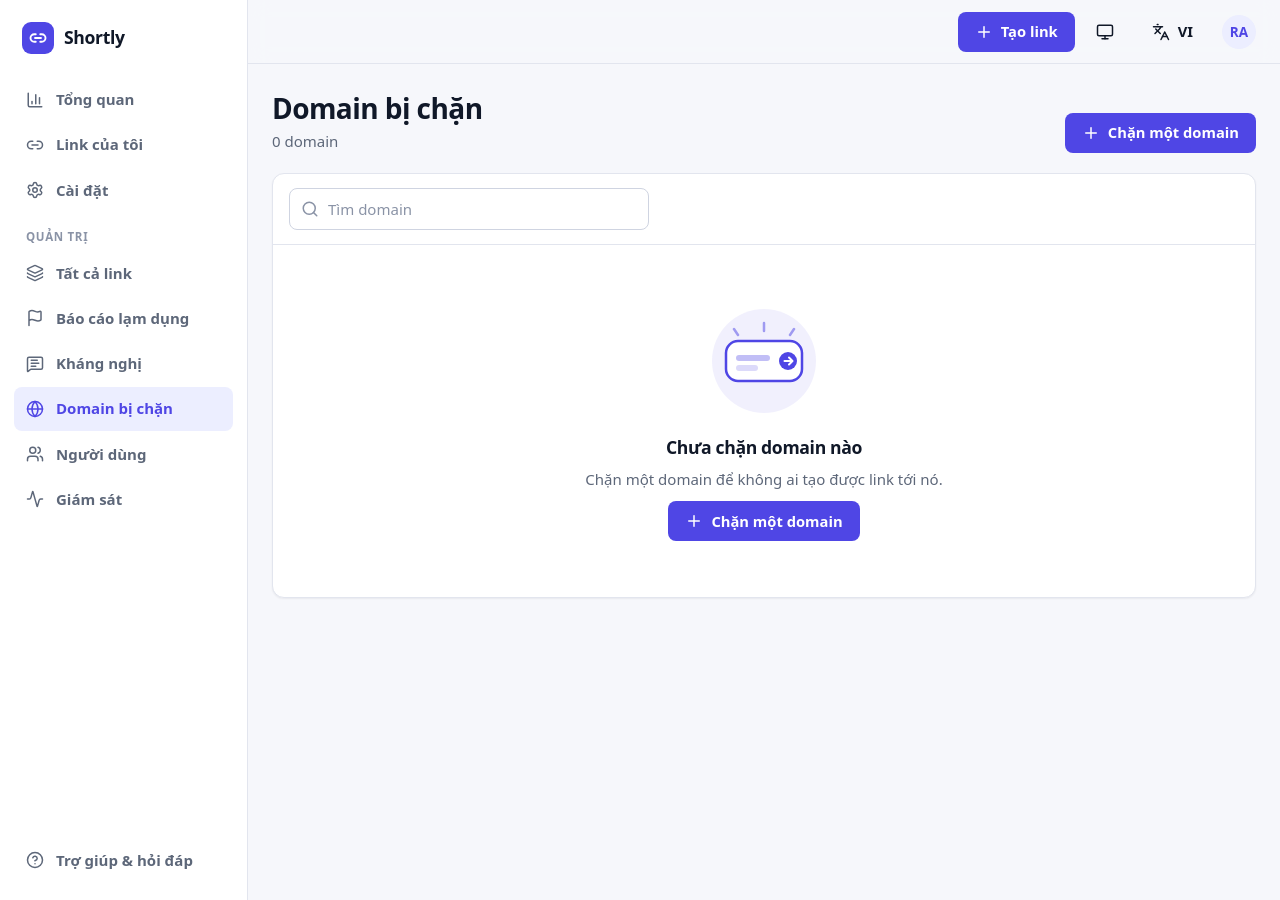
quản trị: domain bị chặn › bỏ chọn chặn link hiện có thì gửi blockExistingLinks=false và lý do trống bị bỏ qua
This screenshot has width=1280, height=900.
Expected: the heading "Chưa chặn domain nào" is shown, [666,437,862,458]
Click the button "Chặn một domain" in the row of "0 domain" at (1160, 133), box [1065,113,1256,153]
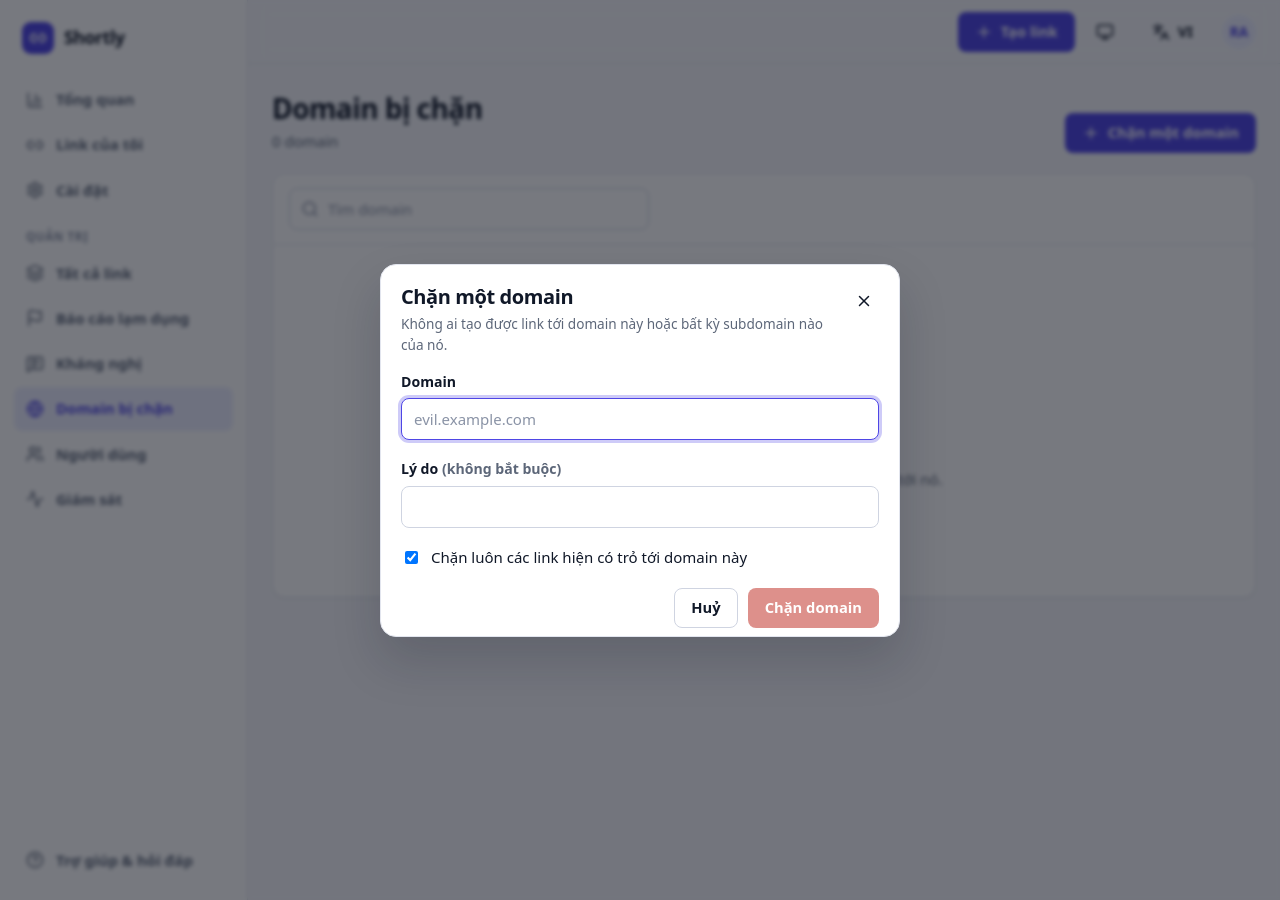
Type "evil.com" into the field labelled "Domain" at (640, 419), box [401,398,879,440]
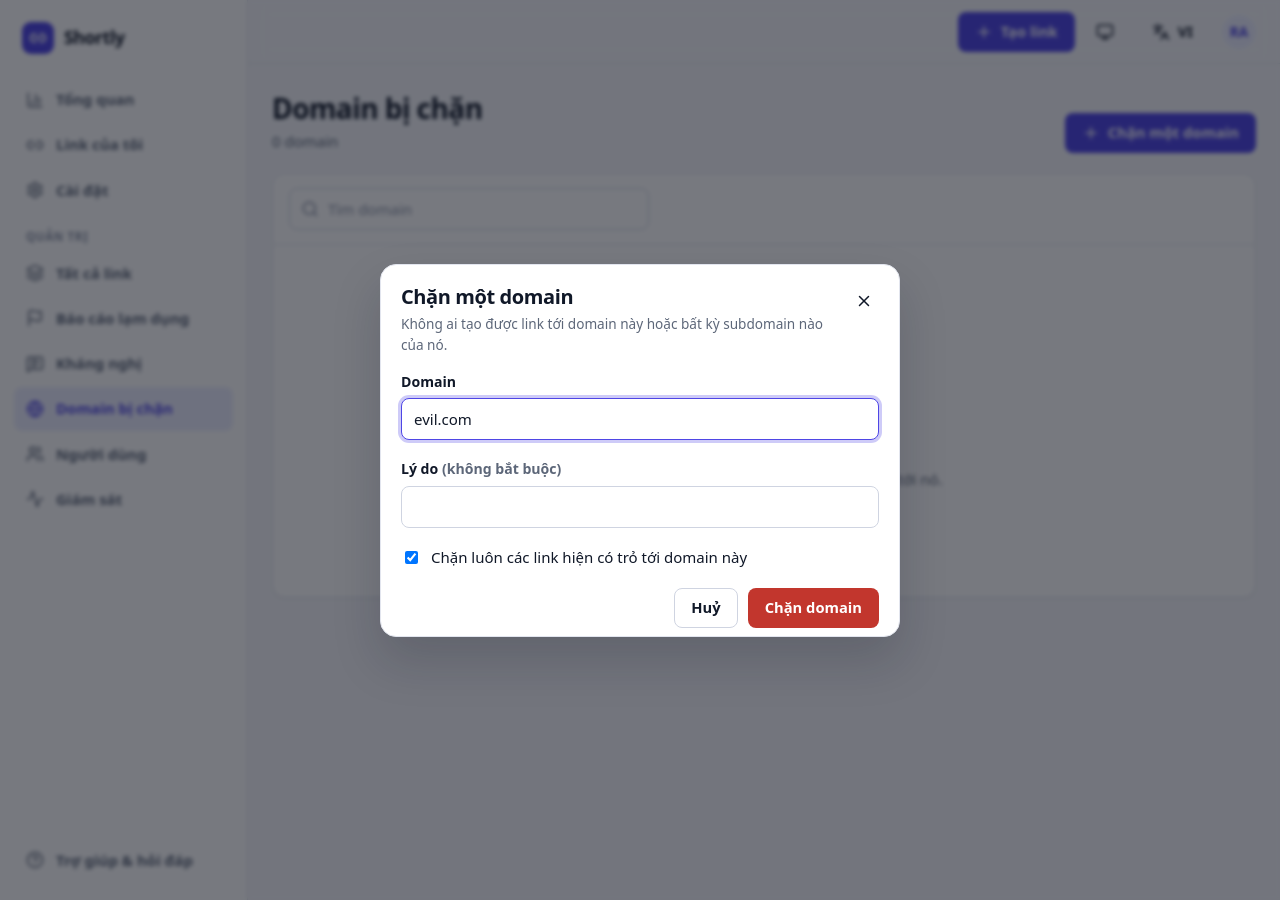
Click the checkbox at (412, 558), box [405,551,418,564]
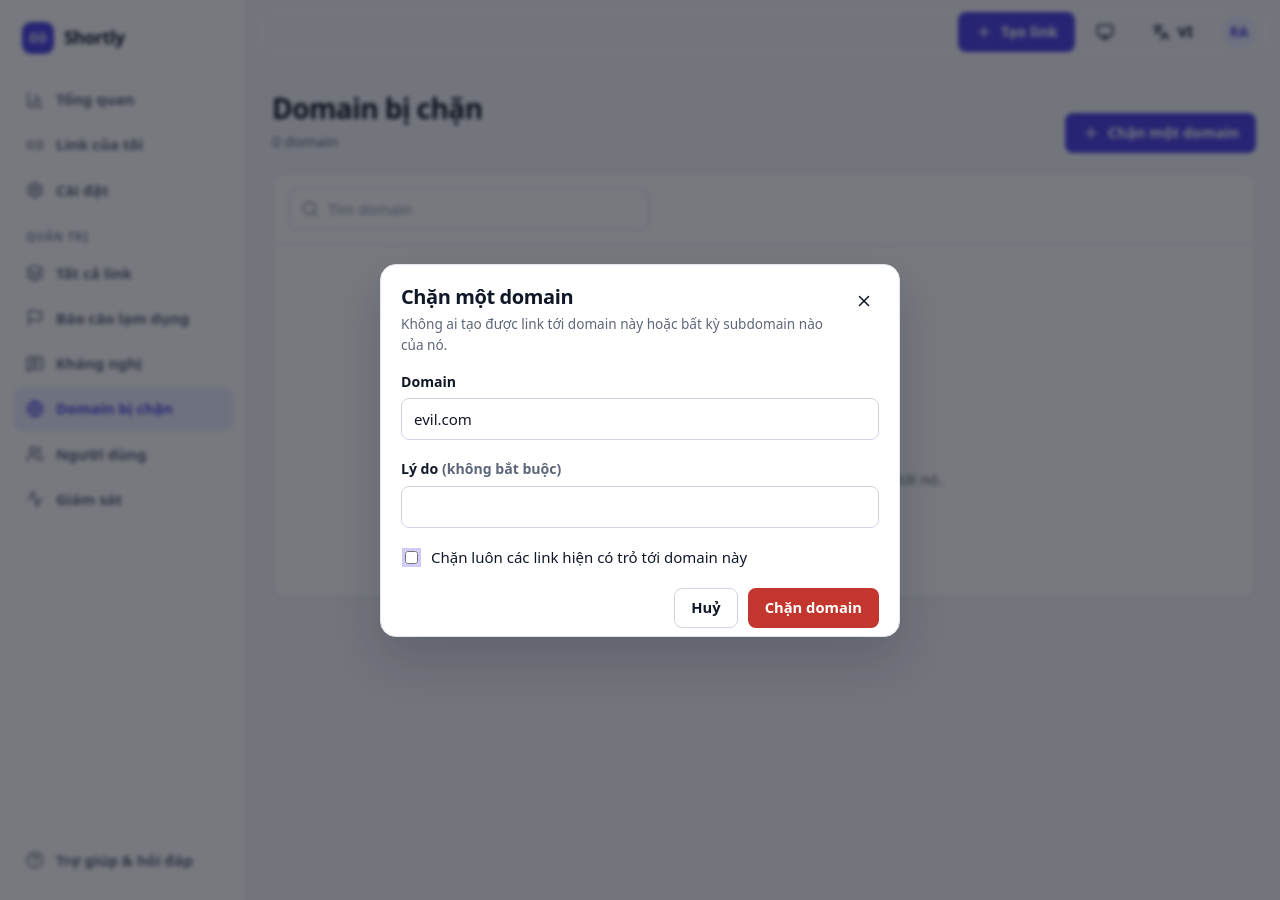
Click the button "Chặn domain" at (813, 608), box [748,588,879,628]
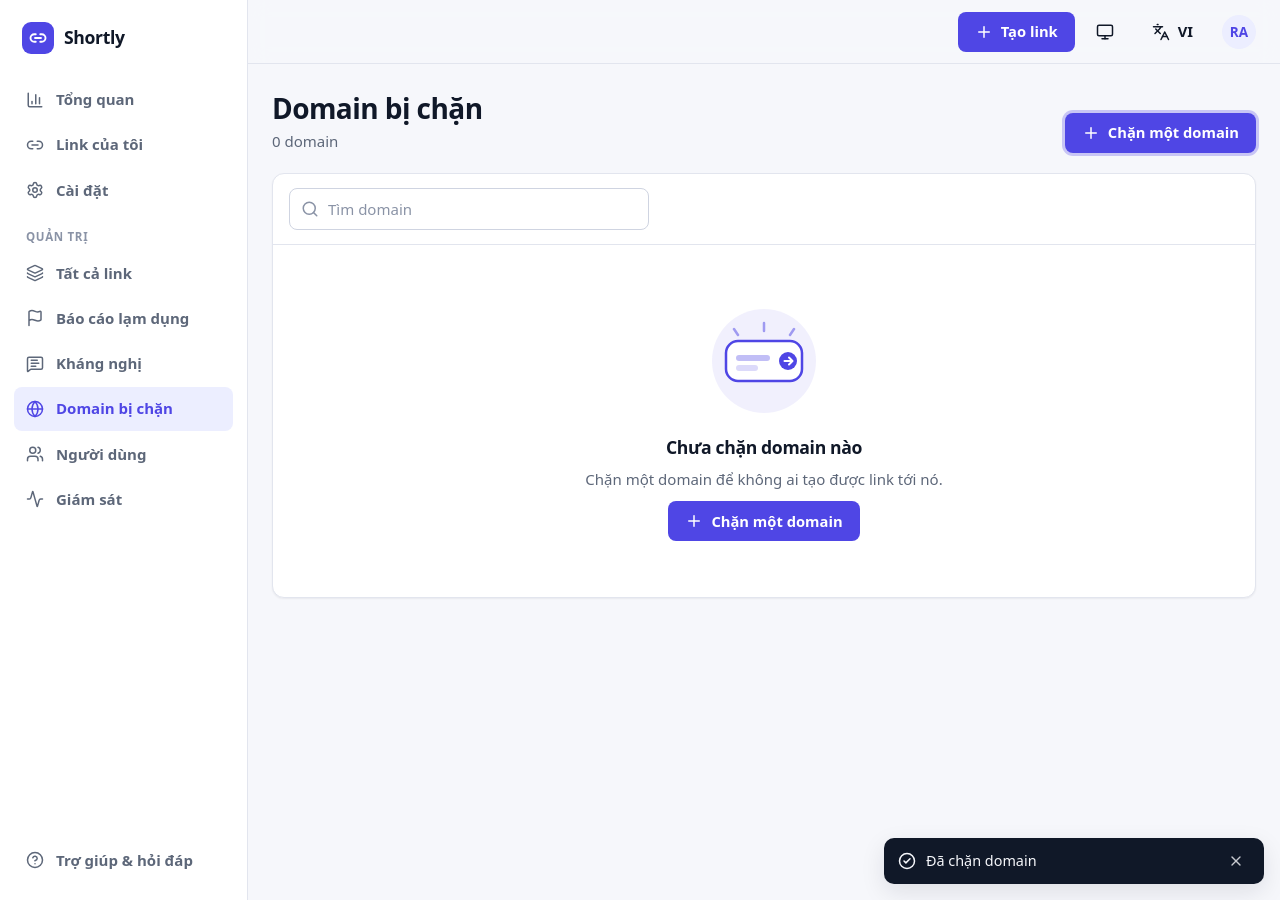
Result: the text "Đã chặn domain" is shown at [926,850,1036,872]
